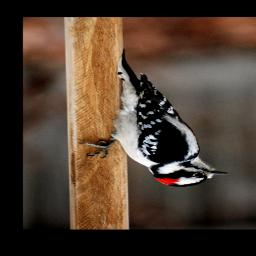Woodpecker: (79, 50, 228, 187)
